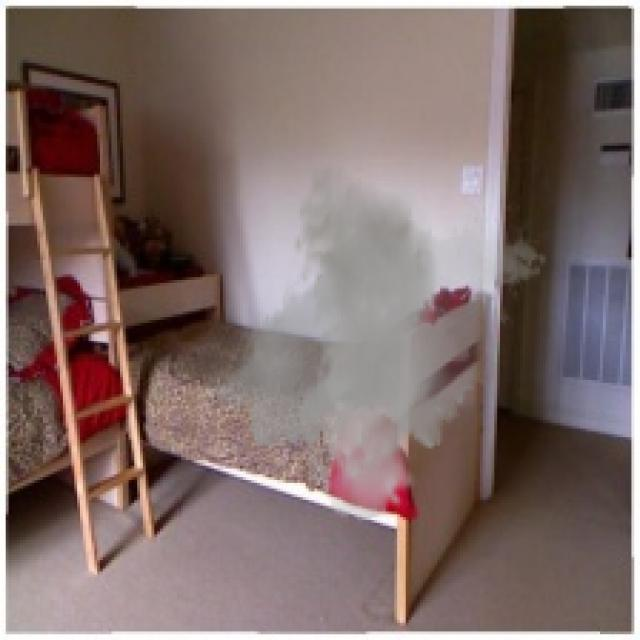Smoke: (206, 163, 548, 523)
